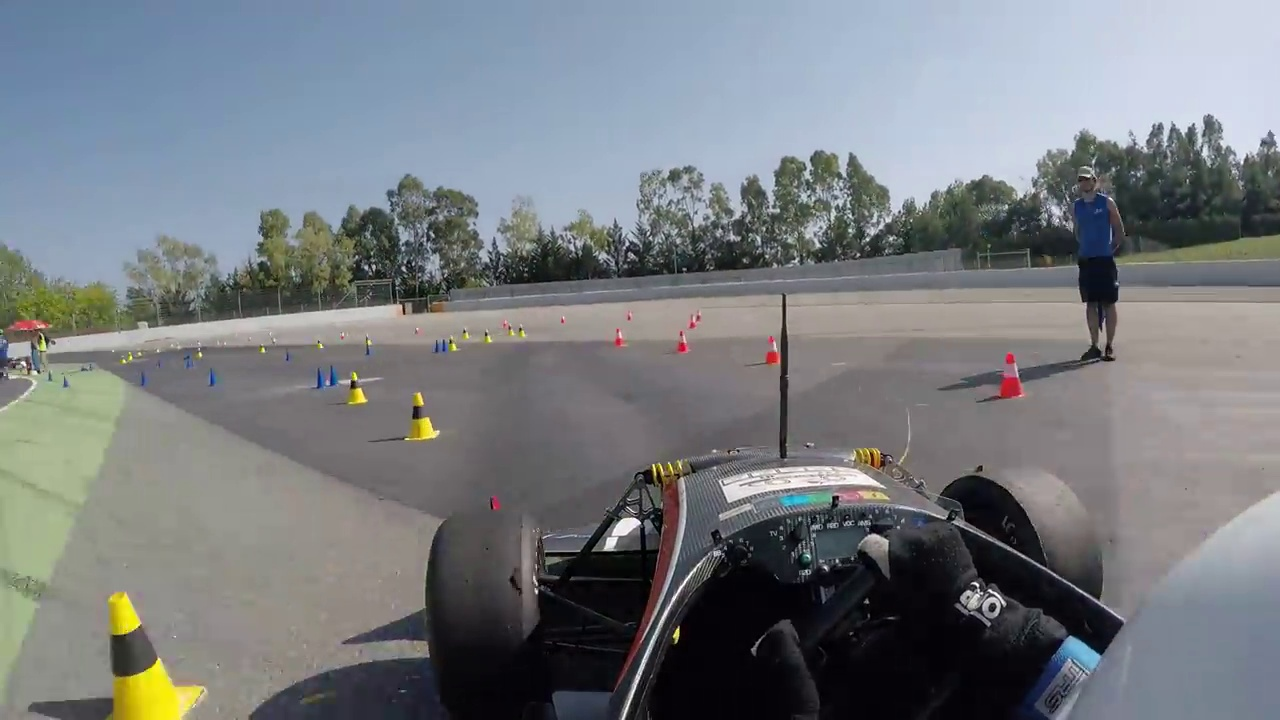Cone: (104, 590, 194, 717), (995, 352, 1027, 400), (407, 391, 438, 440), (347, 372, 368, 408)
